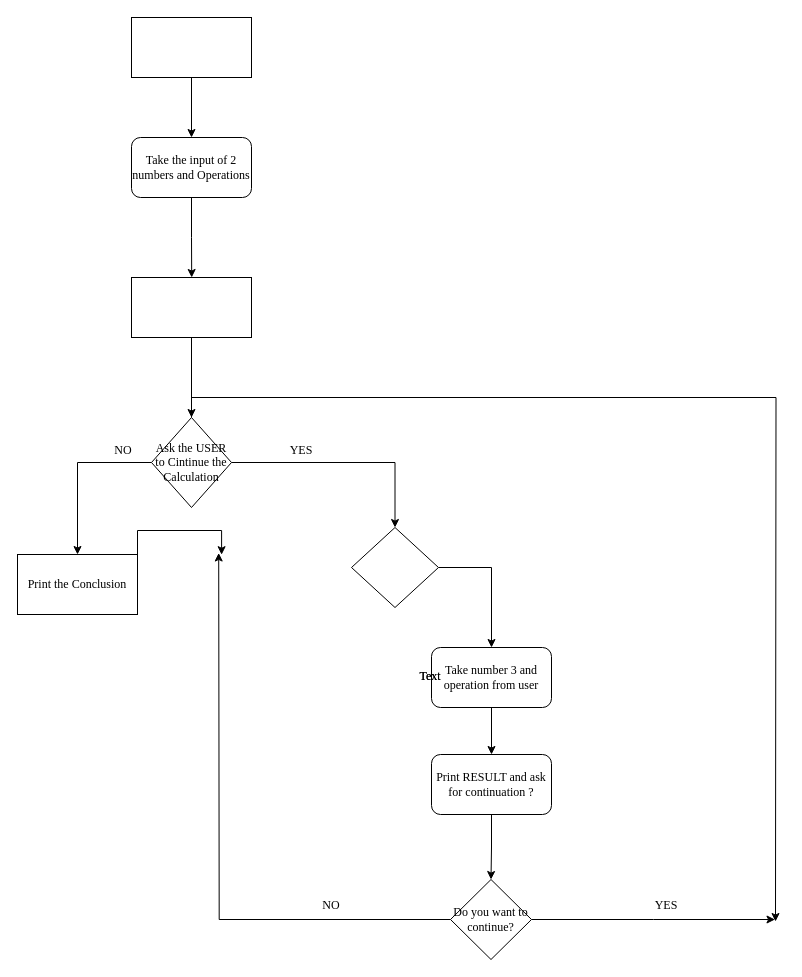
Some shapes in this 802 by 977 pixel diagram are drawn without their labels. The centre of each missing label's shape, as x and y in pixels:
"CALCULATOR" belongs at point (191, 47).
"Do He want to continue with previous result" belongs at point (394, 567).
"Perform the Operation and Print the RESULT" belongs at point (191, 307).
